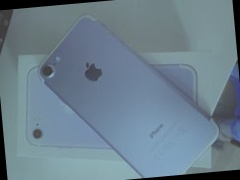iphone: (40, 12, 216, 180)
